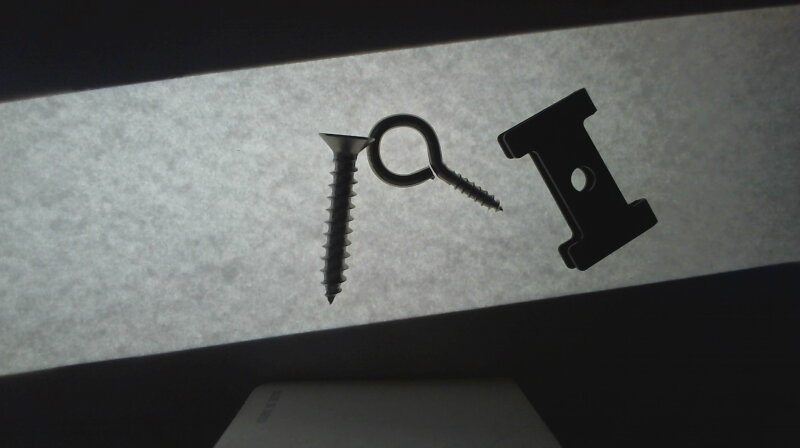O001: (365, 112, 506, 213)
O002: (499, 84, 658, 275)
S001: (316, 128, 375, 305)
